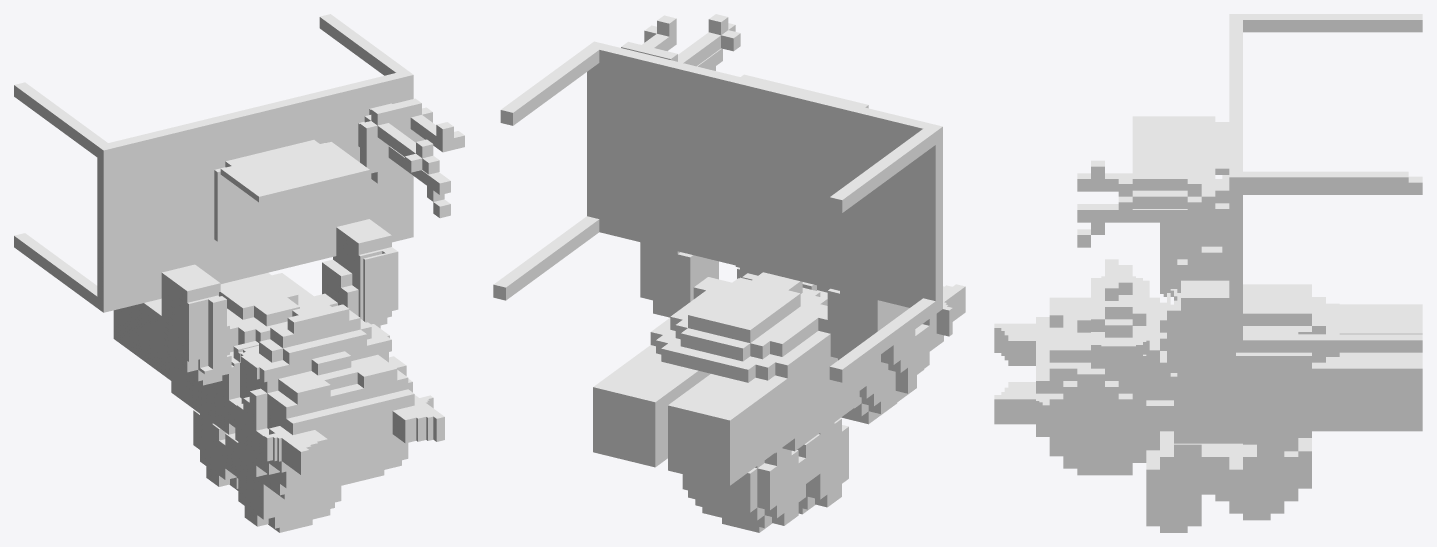
The model's file is autosave-dimensional-bjorn.gltf.
The picture shows the model from 3 angles, left to right: view 1: azimuth 30°, elevation 25°; view 2: azimuth 150°, elevation 25°; view 3: azimuth 270°, elevation 25°; orthographic projection. The views are drawn at different scales.
Parts seen in each view (by area): view 1: unnamed.6; view 2: unnamed.6; view 3: unnamed.6.
Boxes of the visible parts, left/top/right/bottom form: unnamed.6: left=14, top=14, right=464, bottom=532; unnamed.6: left=493, top=14, right=965, bottom=532; unnamed.6: left=994, top=14, right=1422, bottom=532.
Bounding box in the file's own units: 112 × 136 × 124.
Materials: 1 (1 with a texture image).
